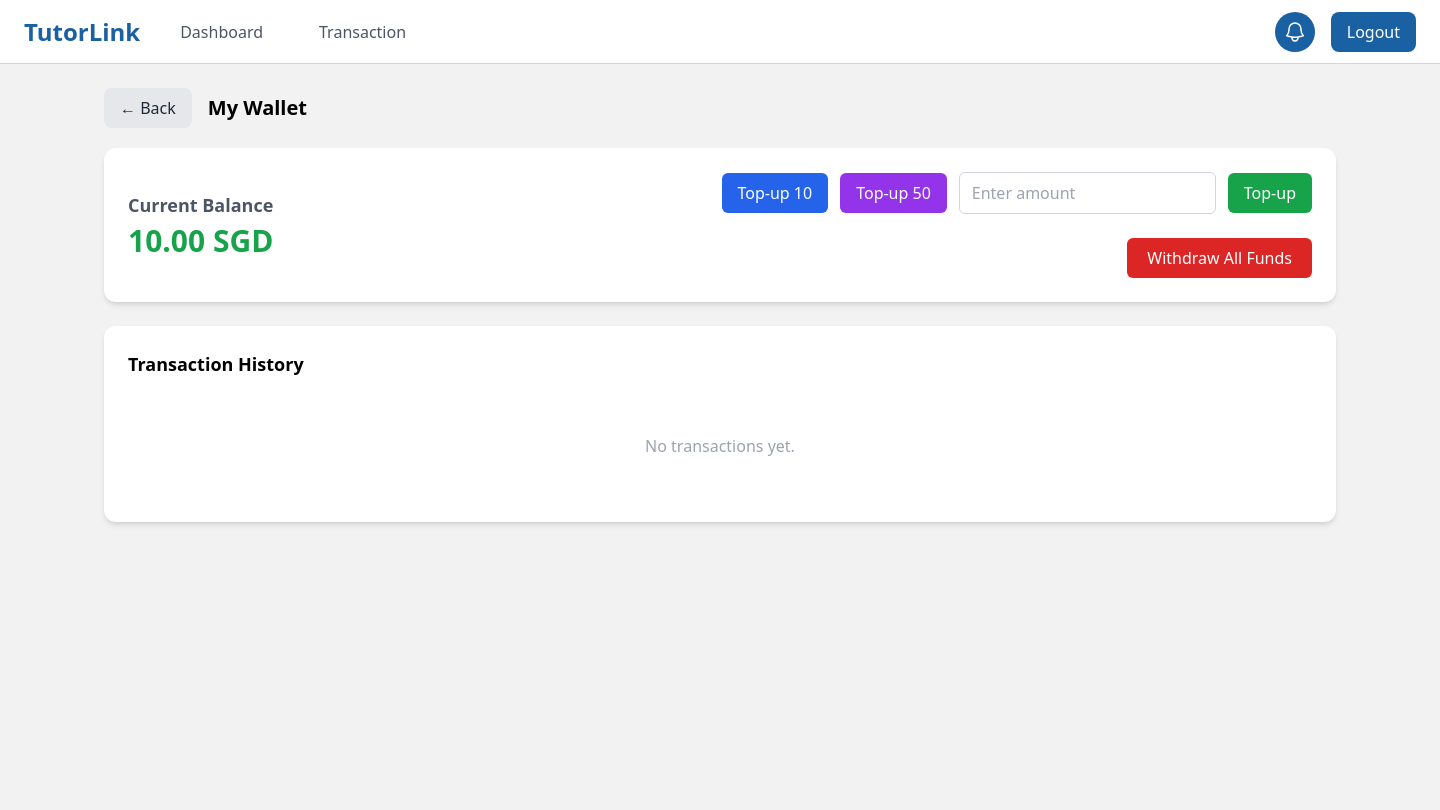
Test case: WalletPage › opens and cancels top-up confirmation modal
The image size is (1440, 810).
Expected: the heading "Current Balance" is shown, [128, 191, 274, 219]
Click the button "Top-up 10" at point(775, 193), box [722, 173, 828, 213]
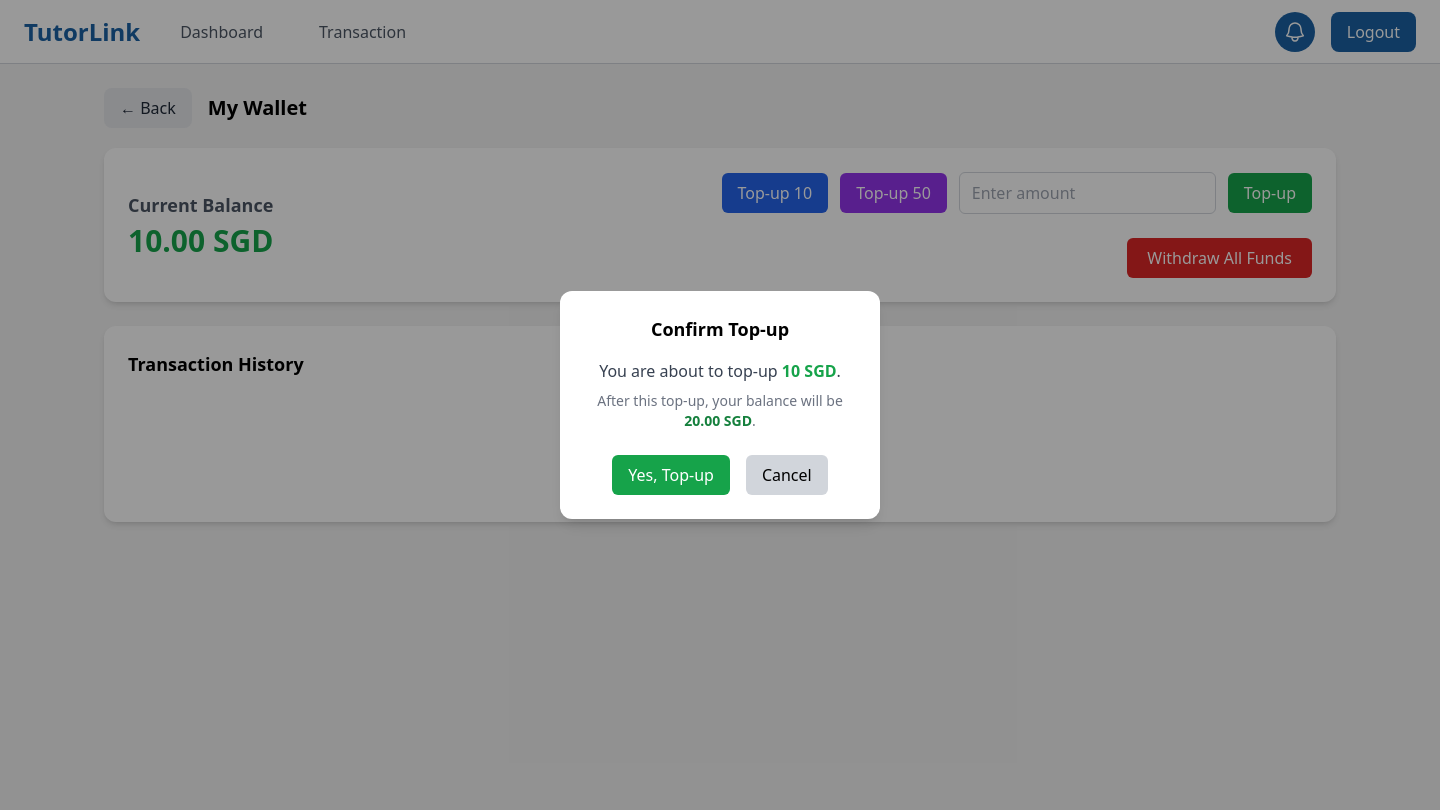
Expected: the heading "Confirm Top-up" is shown, [651, 317, 789, 341]
Click the button "Cancel" at point(787, 475), box [746, 455, 828, 495]
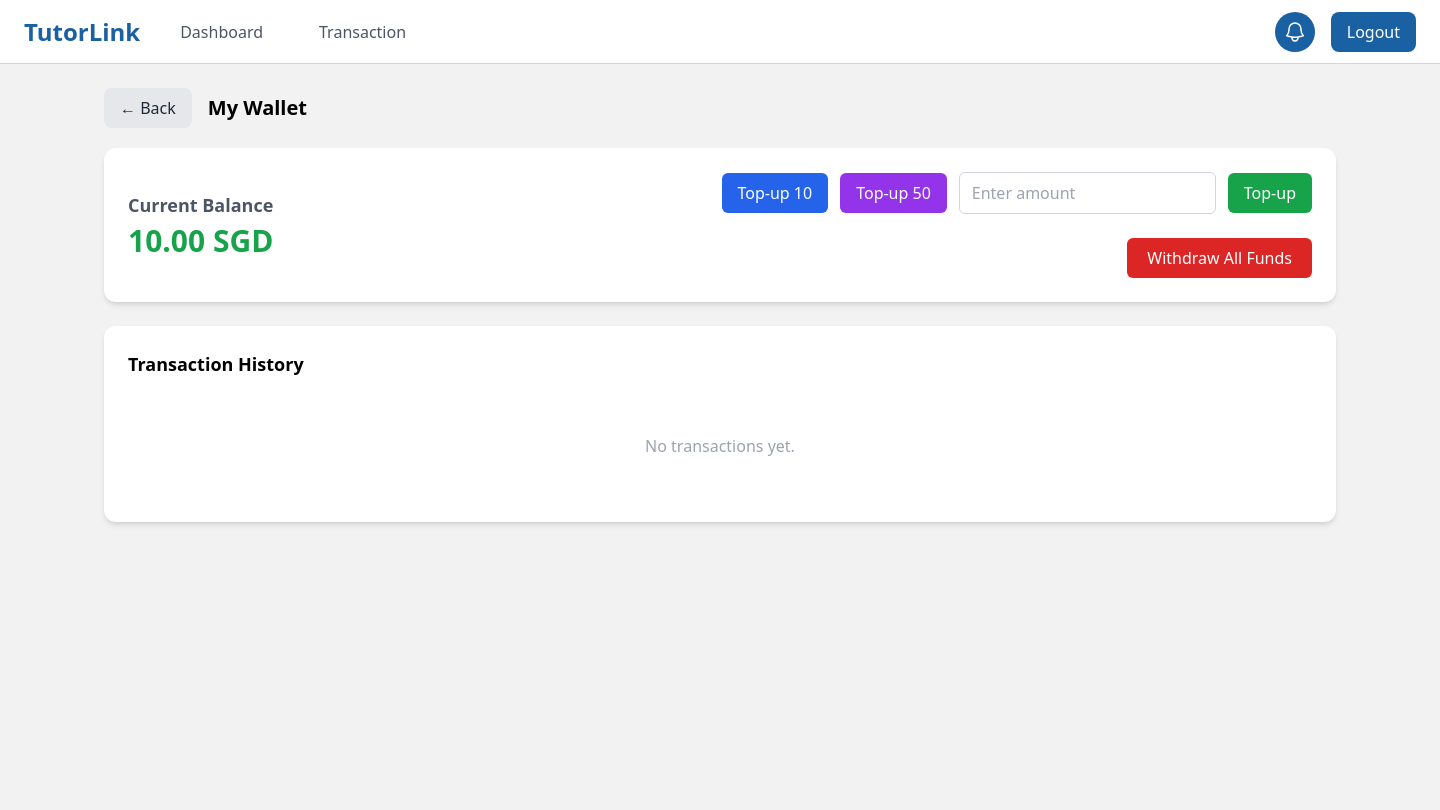
Expected: the heading "Confirm Top-up" is gone
